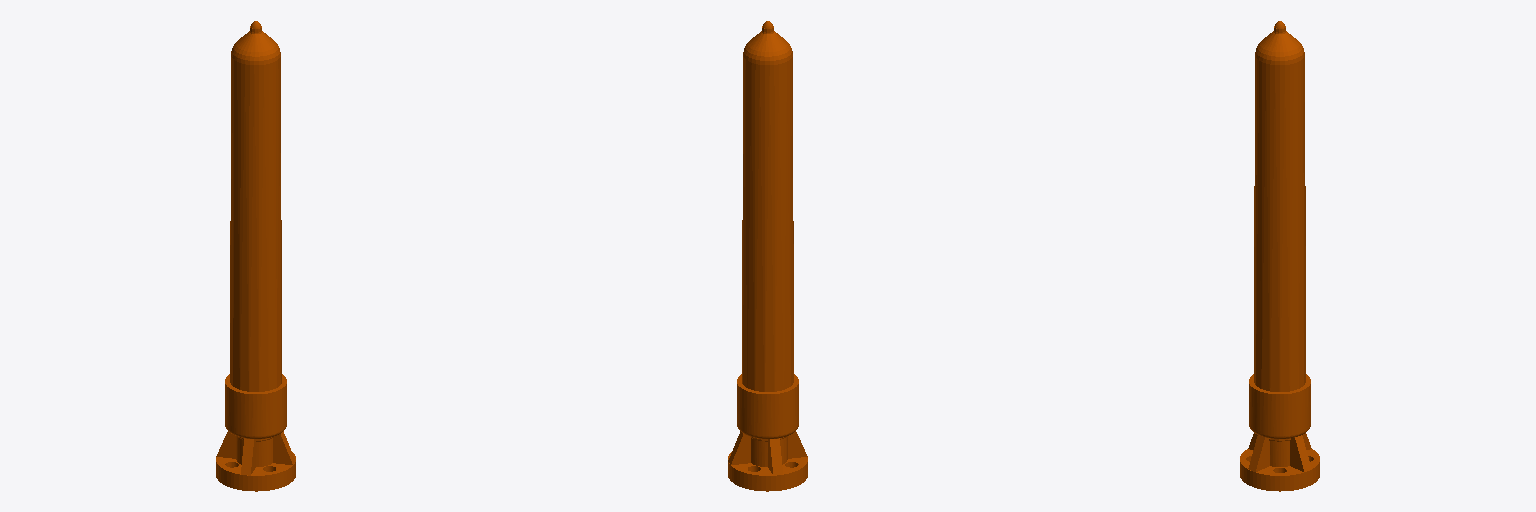
robot.urdf — ee_marker:
<?xml version="1.0" encoding="utf-8"?>
<!-- This URDF was automatically created by SolidWorks to URDF Exporter! Originally created by [author] ([email redacted]) 
     Commit Version: 1.6.0-4-g7f85cfe  Build Version: 1.6.7995.38578
     For more information, please see http://wiki.ros.org/sw_urdf_exporter -->
<robot
  name="ee_marker">
  <link
    name="ee_marker">
    <inertial>
      <origin
        xyz="2.13388833621327E-08 -6.02521102034508E-08 0.0650409276148536"
        rpy="0 0 0" />
      <mass
        value="0.0340927901942582" />
      <inertia
        ixx="3.50572267074418E-05"
        ixy="7.61605742281784E-12"
        ixz="1.82035090014301E-12"
        iyy="3.5057232927115E-05"
        iyz="-2.2151447314013E-11"
        izz="1.13056449928989E-06" />
    </inertial>
    <visual>
      <origin
        xyz="0 0 0"
        rpy="0 0 0" />
      <geometry>
        <mesh
          filename="package://archie_description/meshes/ee_marker.STL" />
      </geometry>
      <material
        name="">
        <color
          rgba="0.729411764705882 0.356862745098039 0.0235294117647059 1" />
      </material>
    </visual>
    <collision>
      <origin
        xyz="0 0 0"
        rpy="0 0 0" />
      <geometry>
        <mesh
          filename="package://archie_description/meshes/ee_marker.STL" />
      </geometry>
    </collision>
  </link>
</robot>

--- Render facts (derived) ---
The picture shows the robot from 3 angles, left to right: view 1: azimuth 30°, elevation 25°; view 2: azimuth 150°, elevation 25°; view 3: azimuth 270°, elevation 25°; orthographic projection.
Robot: ee_marker — 1 links, 0 joints (none); root link ee_marker; default pose: all joints at 0.
Links seen in each view (by area): view 1: ee_marker; view 2: ee_marker; view 3: ee_marker.
Link boxes in pixels (bbox=[...]): ee_marker: bbox=[216, 21, 295, 491]; ee_marker: bbox=[728, 21, 807, 491]; ee_marker: bbox=[1240, 21, 1319, 491].
Bounding box of the posed robot: 0.0235 × 0.0235 × 0.1461 m (x, y, z).
Meshes: 1 distinct files referenced, 1 mesh visuals loaded (1 binary STL).
